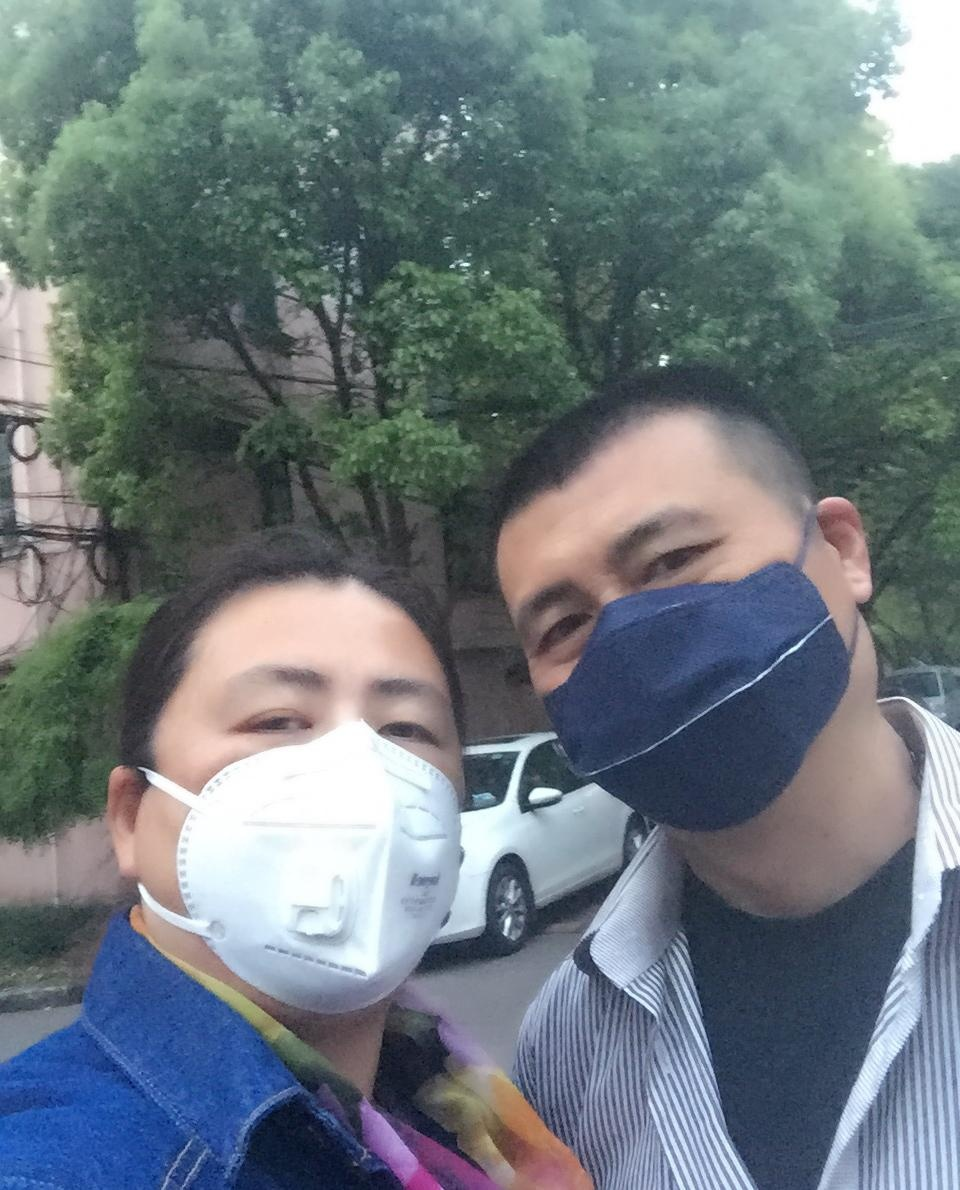Mask: (521, 509, 843, 832)
